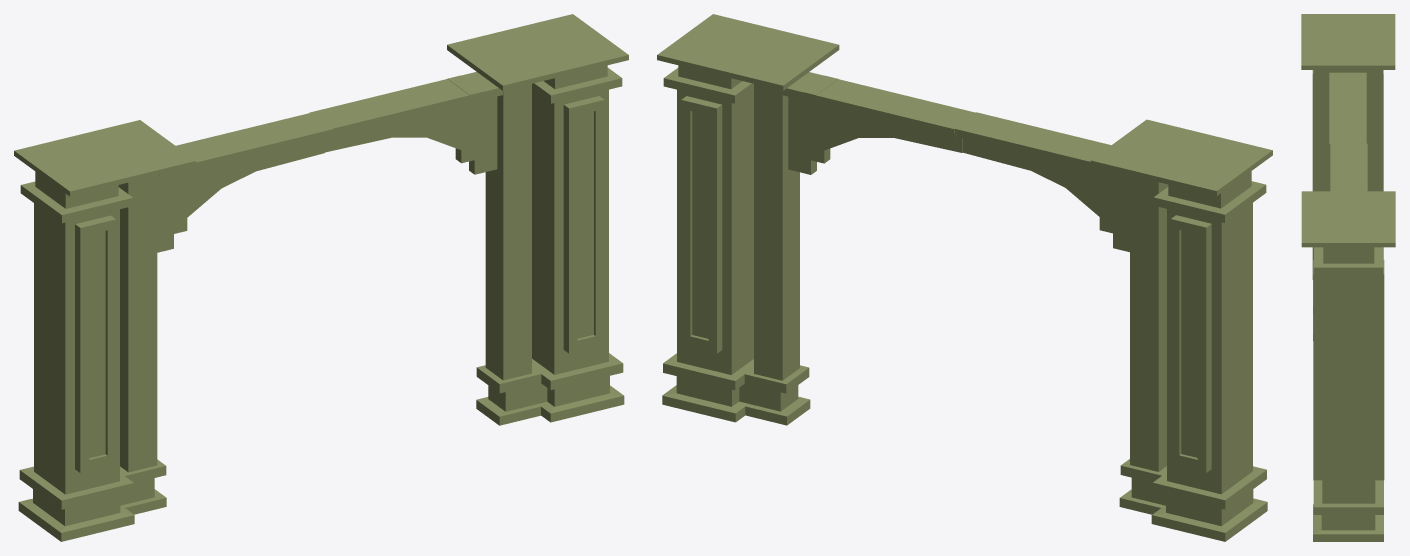
File: Gapura bede .fbx
The picture shows the model from 3 angles, left to right: view 1: azimuth 30°, elevation 25°; view 2: azimuth 150°, elevation 25°; view 3: azimuth 270°, elevation 25°; orthographic projection. The views are drawn at different scales.
Visible parts, largest first — view 1: Cube.001, Cube; view 2: Cube.001, Cube; view 3: Cube, Cube.001.
Boxes of the visible parts, x1,y1,x2,y2 form: Cube.001: [14, 113, 333, 541]; Cube: [309, 14, 628, 425]; Cube.001: [954, 112, 1272, 541]; Cube: [657, 14, 975, 425]; Cube: [1301, 143, 1395, 541]; Cube.001: [1301, 14, 1395, 340].
Size of the model in its own units: 2035 by 1226 by 352.
